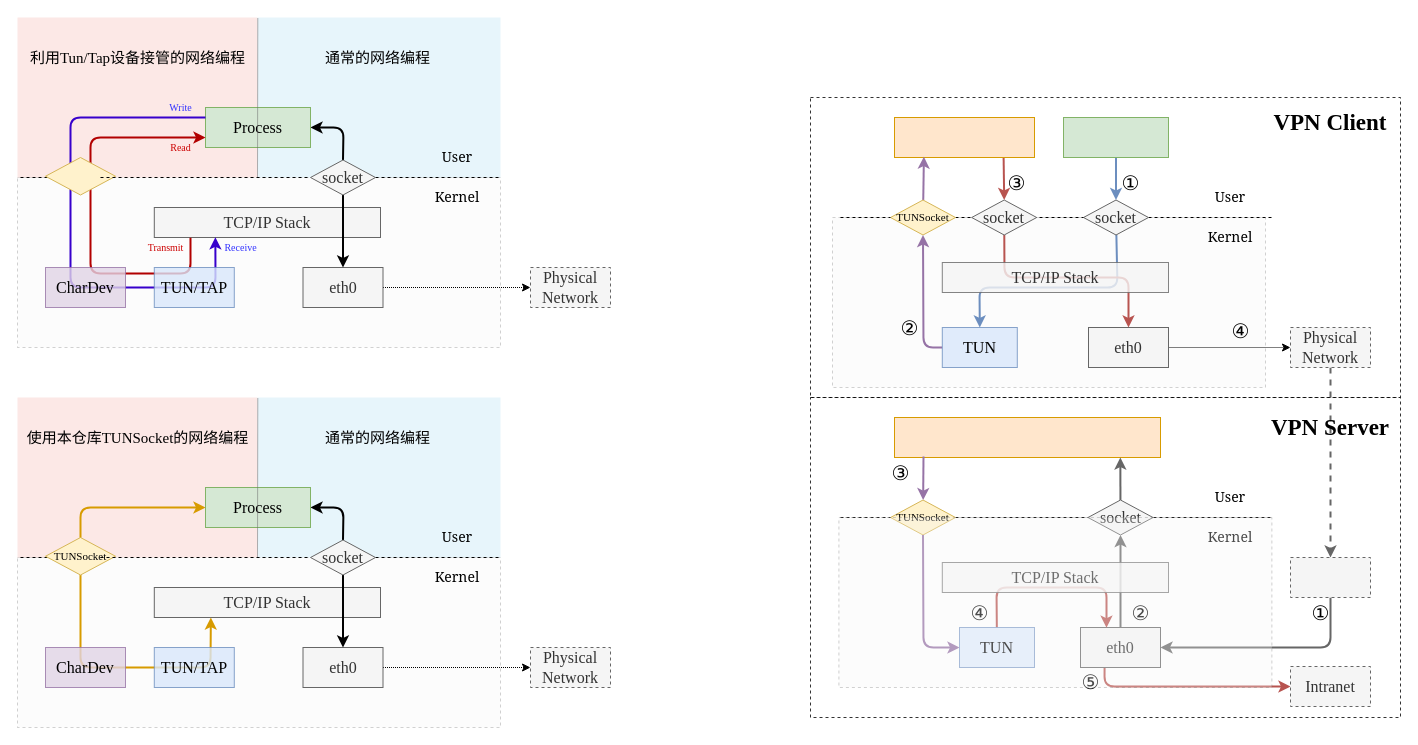
Image size: 1418x745. Some labels were removed from this diagram. The centre of each missing label's shape, as x and y in pixels:
"Extranet" belongs at point 1330,577.
"FD" belongs at point 80,175.
"User Application" belongs at point 1115,137.
"VPN Client-side" belongs at point 964,137.
"VPN Server-side" belongs at point 1027,437.
